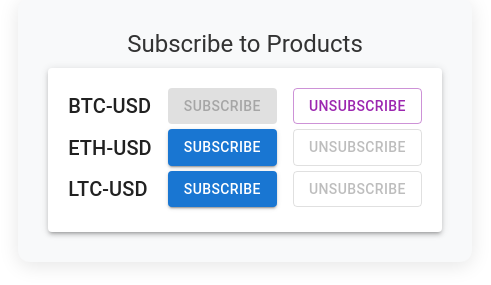
Scenario: Subscribe Component › handles subscribing to a product
The width and height of the screenshot is (491, 285).
Note: Click the subscribe button for "ETH-USD"
Click the button with test id "subscribe-button-ETH-USD" at (222, 148), box 168,130 -> 277,166
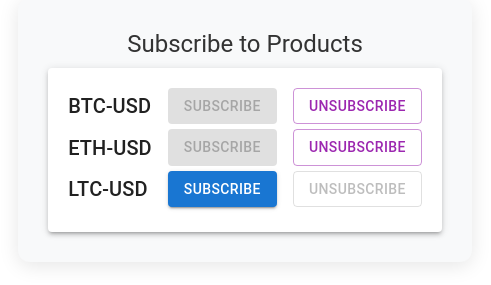
Expected: the button with test id "subscribe-button-ETH-USD" is disabled, 168,130 -> 277,166
Expected: the button with test id "unsubscribe-button-ETH-USD" is enabled, 293,130 -> 422,166
